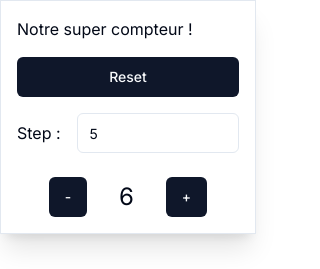
Test: Le composant Counter est initialisé avec une valeur maximum de 12 (maxValue), une valeur initiale de 6 et un step de 5 › Si on clique sur le bouton decrement, le bouton "-" doit être disabled
Click the button "-" at (68, 197), box top-left (49, 177), bottom-right (87, 217)
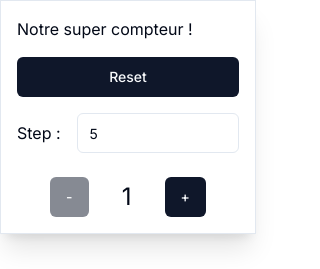
Result: the button "-" is disabled at top-left (50, 177), bottom-right (89, 217)
